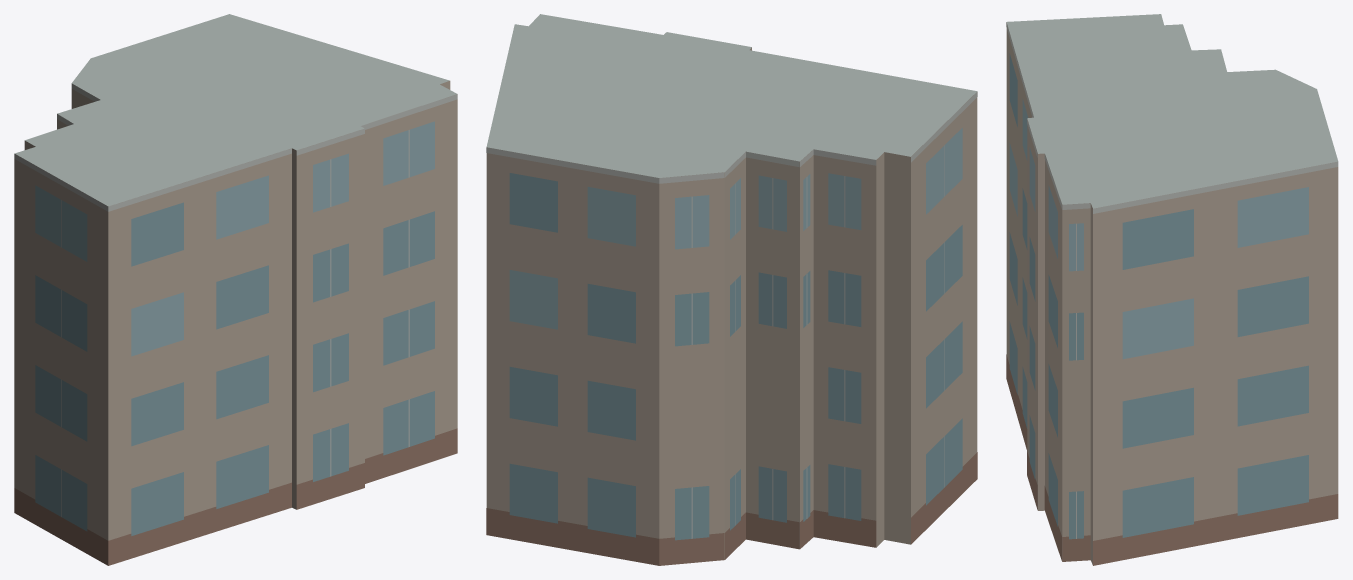
File: survey-upis-32621049.glb
3 renders of one model, left to right at view 1: azimuth 30°, elevation 25°; view 2: azimuth 150°, elevation 25°; view 3: azimuth 270°, elevation 25°, orthographic. The views are drawn at different scales.
Visible parts, largest first — view 1: survey-upis-32621049.tmp; view 2: survey-upis-32621049.tmp; view 3: survey-upis-32621049.tmp.
Part boxes in pixels (x1,y1,x2,y2): survey-upis-32621049.tmp: [14, 14, 457, 565]; survey-upis-32621049.tmp: [486, 14, 977, 565]; survey-upis-32621049.tmp: [1006, 14, 1338, 565].
Size of the model in its own units: 19.18 by 16.4 by 13.82.
